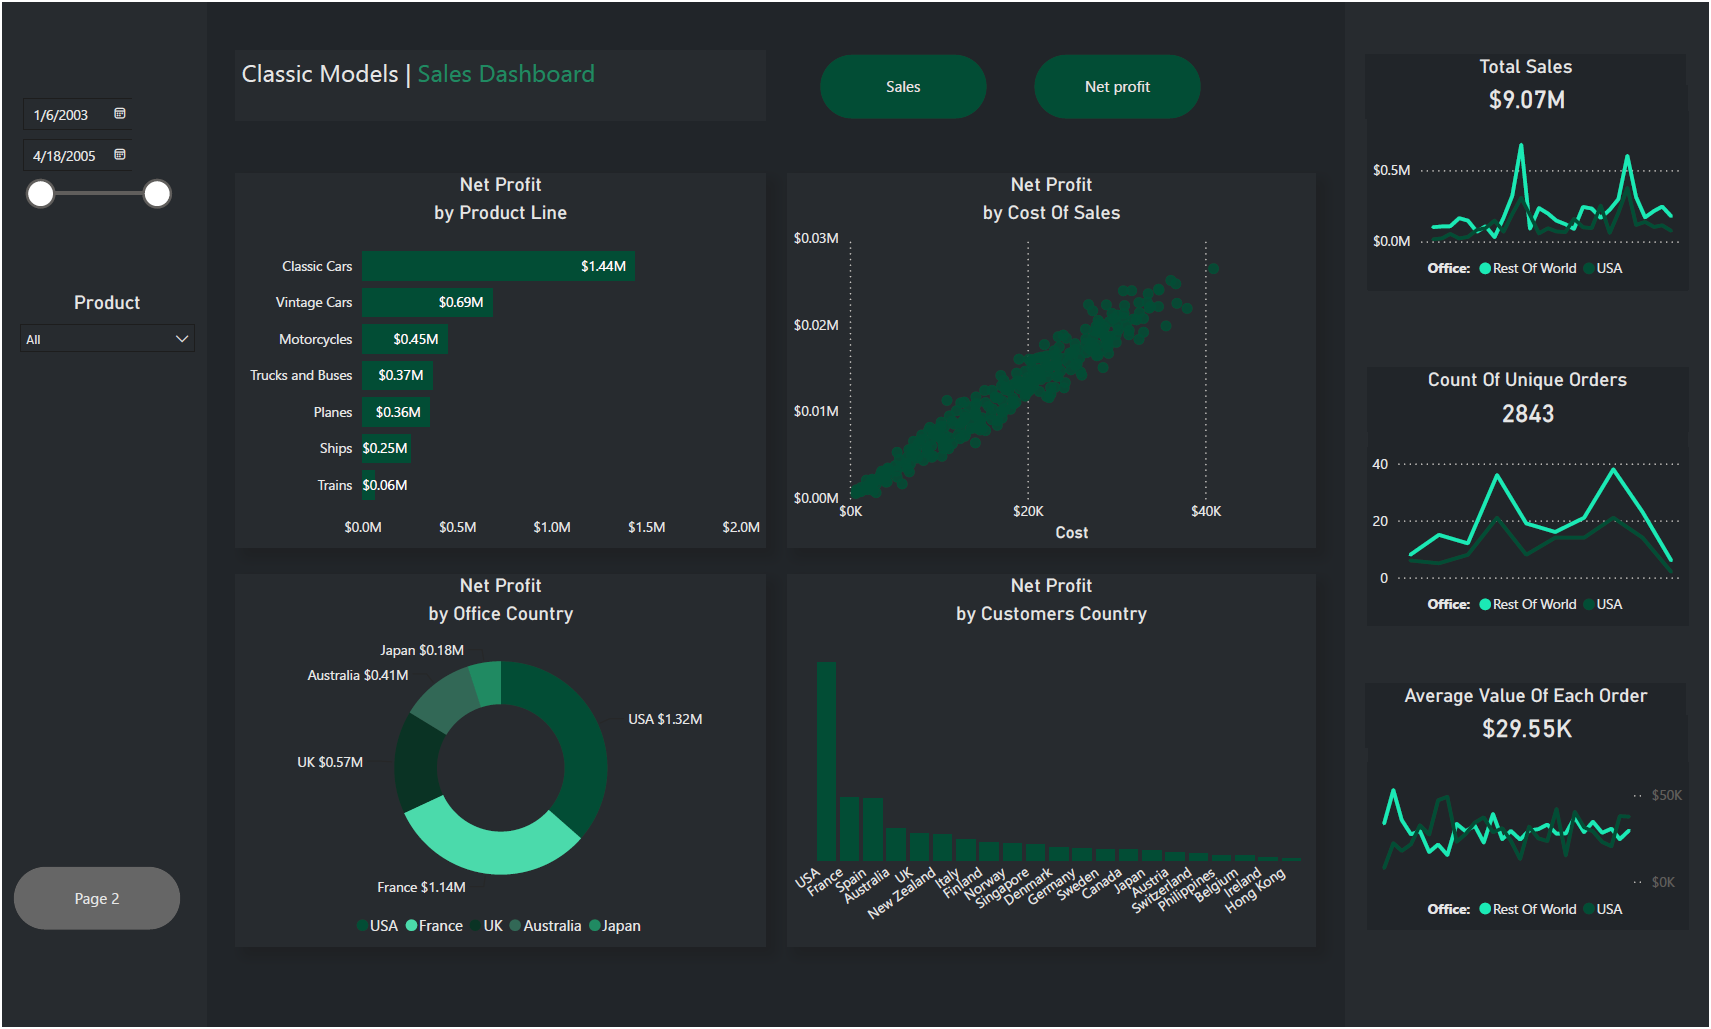

This screenshot's page, from the dashboard's own definition file:
{"tool":"powerbi","page":{"name":"Sales Overview Page 1","canvas":[1500,900],"ordinal":0},"visuals":[{"type":"shape","box":[0,0,180,900],"z":0},{"type":"shape","box":[1180,0,320,900],"z":1000},{"type":"shape","box":[1200,72.9,280,180],"z":2000},{"type":"shape","box":[1200,625.7,280,180],"z":3000},{"type":"shape","box":[1200,349.3,280,180],"z":4000},{"type":"PBI_CV_7B952816_A48F_49B4_9E13_15E3BB2C0337","title":"Total Sales","fields":{"Values":["Sum(classicmodels sales_data_for_power_bi.sales_value)"]},"box":[1198.1,45.9,281.1,55.7],"z":5000},{"type":"PBI_CV_7B952816_A48F_49B4_9E13_15E3BB2C0337","title":"Count Of Unique Orders","fields":{"Values":["CountNonNull(classicmodels sales_data_for_power_bi.ordernumber)"]},"box":[1199.4,321.4,281.1,55.7],"z":6000},{"type":"PBI_CV_7B952816_A48F_49B4_9E13_15E3BB2C0337","title":"Average Value Of Each Order","fields":{"Values":["Table.Average Sales Value Per Person"]},"box":[1198.1,598.3,281.1,55.7],"z":7000},{"type":"lineChart","fields":{"Y":["Sum(classicmodels sales_data_for_power_bi.sales_value)"],"Category":["classicmodels sales_data_for_power_bi.orderdate.Variation.Date Hierarchy.Year","classicmodels sales_data_for_power_bi.orderdate.Variation.Date Hierarchy.Quarter","classicmodels sales_data_for_power_bi.orderdate.Variation.Date Hierarchy.Month"],"Series":["classicmodels sales_data_for_power_bi.Office Grouped 2"]},"box":[1199.4,96,281.1,155.8],"z":8000},{"type":"lineChart","fields":{"Category":["classicmodels sales_data_for_power_bi.orderdate.Variation.Date Hierarchy.Year","classicmodels sales_data_for_power_bi.orderdate.Variation.Date Hierarchy.Quarter","classicmodels sales_data_for_power_bi.orderdate.Variation.Date Hierarchy.Month"],"Series":["classicmodels sales_data_for_power_bi.Office Grouped 2"],"Y":["Count(classicmodels sales_data_for_power_bi.ordernumber)"]},"box":[1199.4,391,281.1,155.8],"z":9000},{"type":"lineChart","fields":{"Category":["classicmodels sales_data_for_power_bi.orderdate.Variation.Date Hierarchy.Year","classicmodels sales_data_for_power_bi.orderdate.Variation.Date Hierarchy.Quarter","classicmodels sales_data_for_power_bi.orderdate.Variation.Date Hierarchy.Month"],"Series":["classicmodels sales_data_for_power_bi.Office Grouped 2"],"Y2":["classicmodels sales_data_for_power_bi.Average Sales Value per Order"]},"box":[1199.4,666.5,281.1,147.5],"z":10000},{"type":"clusteredBarChart","fields":{"Category":["classicmodels sales_data_for_power_bi.productLine"],"Y":["Table.Selected Metric"]},"box":[205.9,150.3,464.8,328.4],"z":11000},{"type":"actionButton","box":[719.4,45.9,146.1,55.7],"z":12000},{"type":"actionButton","box":[907.2,45.9,146.1,55.7],"z":13000},{"type":"scatterChart","fields":{"Y":["Table.Selected Metric"],"Category":["classicmodels sales_data_for_power_bi.ordernumber"],"X":["Sum(classicmodels sales_data_for_power_bi.cost_of_sales)"]},"box":[690.2,150.3,463.4,328.4],"z":13002},{"type":"columnChart","fields":{"Y":["Table.Selected Metric"],"Category":["classicmodels sales_data_for_power_bi.customer_country"]},"box":[690.2,502.3,463.4,327],"z":13003},{"type":"donutChart","fields":{"Y":["Table.Selected Metric"],"Category":["classicmodels sales_data_for_power_bi.office_country"]},"box":[205.9,502.3,464.8,327],"z":13004},{"type":"textbox","box":[205.9,41.7,464.8,62.6],"z":13005},{"type":"actionButton","box":[11.4,758.6,145.7,55.7],"z":13006},{"type":"slicer","fields":{"Values":["classicmodels sales_data_for_power_bi.orderdate"]},"box":[5.7,74.3,157.1,151.4],"z":13007},{"type":"slicer","title":"Product","fields":{"Values":["classicmodels sales_data_for_power_bi.productName"]},"box":[5.7,252.9,174.3,171.4],"z":13008}]}

Visuals, with their boxes on the page's 1500x900 design canvas (x1, y1, x2, y2). These are canvas units, not pixel positions in the 1711x1029 screenshot, which may show the page scaled, cropped or inside an application window:
shape: select_region(0, 0, 180, 900)
shape: select_region(1180, 0, 1500, 900)
shape: select_region(1200, 73, 1480, 253)
shape: select_region(1200, 626, 1480, 806)
shape: select_region(1200, 349, 1480, 529)
"Total Sales" PBI_CV_7B952816_A48F_49B4_9E13_15E3BB2C0337: select_region(1198, 46, 1479, 102)
"Count Of Unique Orders" PBI_CV_7B952816_A48F_49B4_9E13_15E3BB2C0337: select_region(1199, 321, 1480, 377)
"Average Value Of Each Order" PBI_CV_7B952816_A48F_49B4_9E13_15E3BB2C0337: select_region(1198, 598, 1479, 654)
lineChart - Sum(classicmodels sales_data_for_power_bi.sales_value) x classicmodels sales_data_for_power_bi.orderdate.Variation.Date Hierarchy.Year: select_region(1199, 96, 1480, 252)
lineChart - classicmodels sales_data_for_power_bi.orderdate.Variation.Date Hierarchy.Year x classicmodels sales_data_for_power_bi.orderdate.Variation.Date Hierarchy.Quarter: select_region(1199, 391, 1480, 547)
lineChart - classicmodels sales_data_for_power_bi.orderdate.Variation.Date Hierarchy.Year x classicmodels sales_data_for_power_bi.orderdate.Variation.Date Hierarchy.Quarter: select_region(1199, 666, 1480, 814)
clusteredBarChart - classicmodels sales_data_for_power_bi.productLine x Table.Selected Metric: select_region(206, 150, 671, 479)
actionButton: select_region(719, 46, 866, 102)
actionButton: select_region(907, 46, 1053, 102)
scatterChart - Table.Selected Metric x classicmodels sales_data_for_power_bi.ordernumber: select_region(690, 150, 1154, 479)
columnChart - Table.Selected Metric x classicmodels sales_data_for_power_bi.customer_country: select_region(690, 502, 1154, 829)
donutChart - Table.Selected Metric x classicmodels sales_data_for_power_bi.office_country: select_region(206, 502, 671, 829)
textbox: select_region(206, 42, 671, 104)
actionButton: select_region(11, 759, 157, 814)
slicer - classicmodels sales_data_for_power_bi.orderdate: select_region(6, 74, 163, 226)
"Product" slicer: select_region(6, 253, 180, 424)
